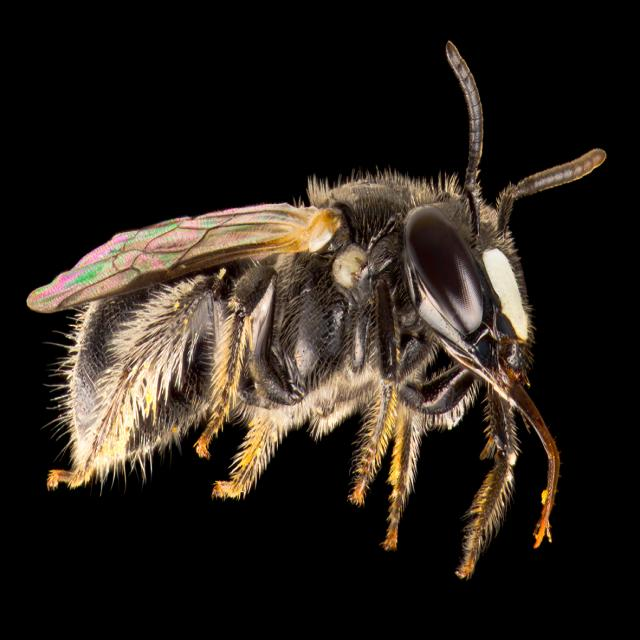Braunsapis: (54, 60, 573, 600)
